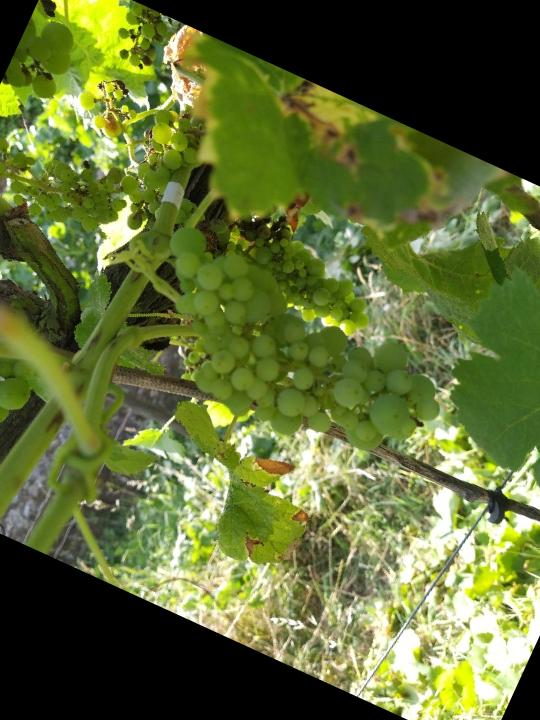grape: (111, 216, 470, 496), (228, 218, 390, 340)
